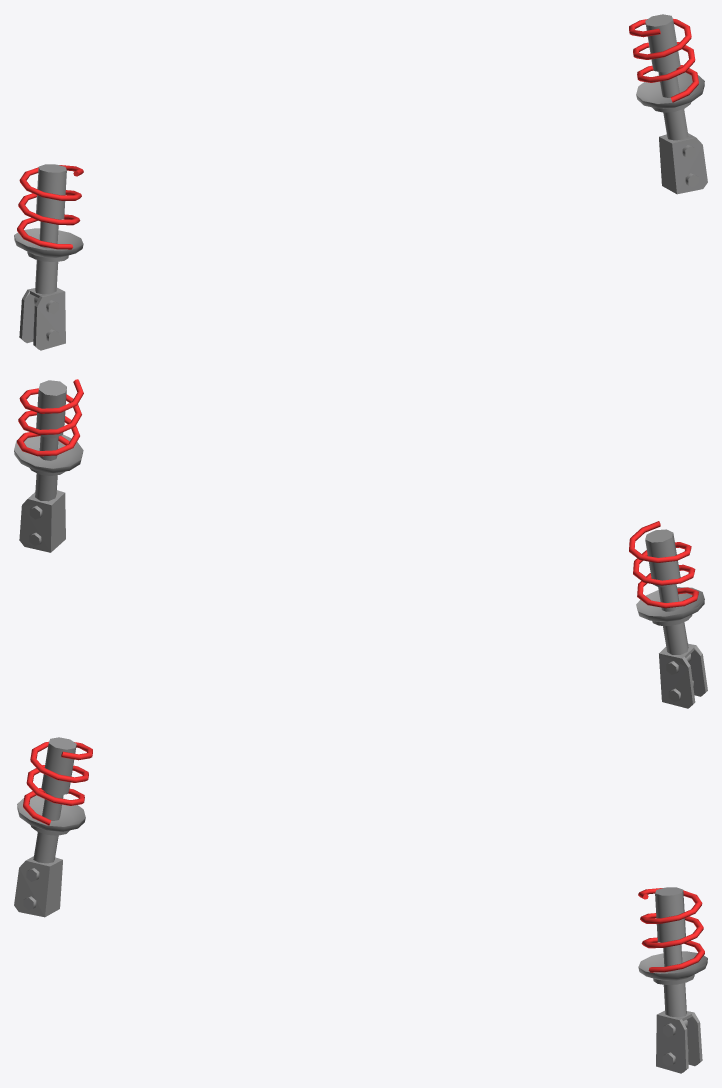
The model's file is spring.glb.
3 views of the same model, one above another, from view 1: azimuth 30°, elevation 25°; view 2: azimuth 150°, elevation 25°; view 3: azimuth 330°, elevation 25° (orthographic).
Parts seen in each view (by area): view 1: lansdale_strut_F, Object007; view 2: lansdale_strut_F, Object007; view 3: lansdale_strut_F, Object007.
Boxes of the visible parts, <box> form: lansdale_strut_F: <box>14,14,707,350</box>; Object007: <box>17,18,698,249</box>; lansdale_strut_F: <box>14,380,707,708</box>; Object007: <box>17,379,698,608</box>; lansdale_strut_F: <box>14,737,707,1073</box>; Object007: <box>23,741,704,972</box>.
Bounding box in the file's own units: 0.0375 × 0.00888 × 0.00352.
